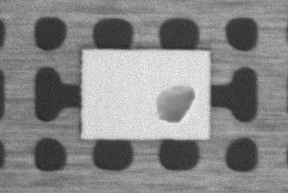DIE_INK: (155, 81, 197, 126)
